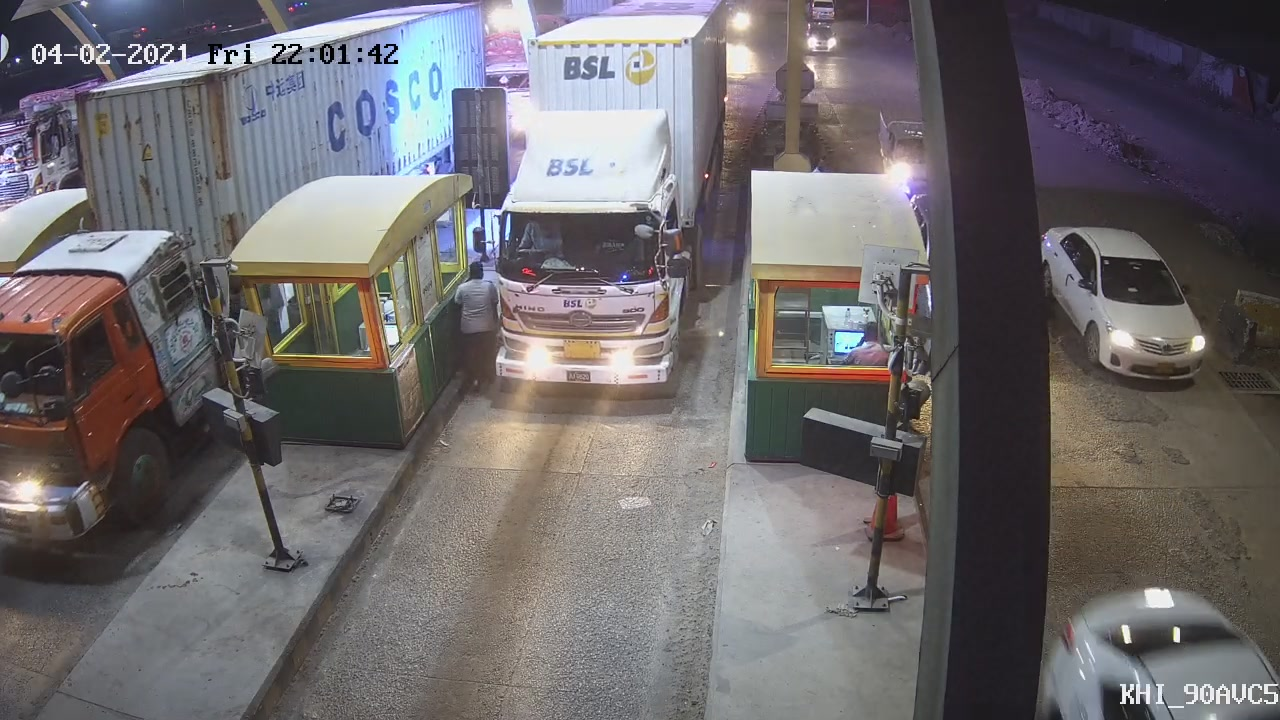F6: (480, 1, 741, 424)
